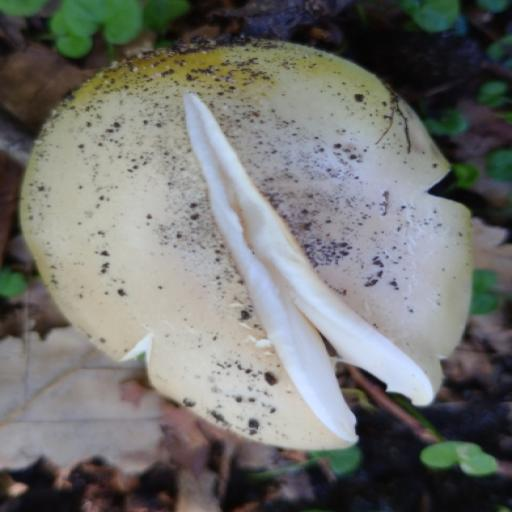Death Cap: (0, 0, 512, 508)
